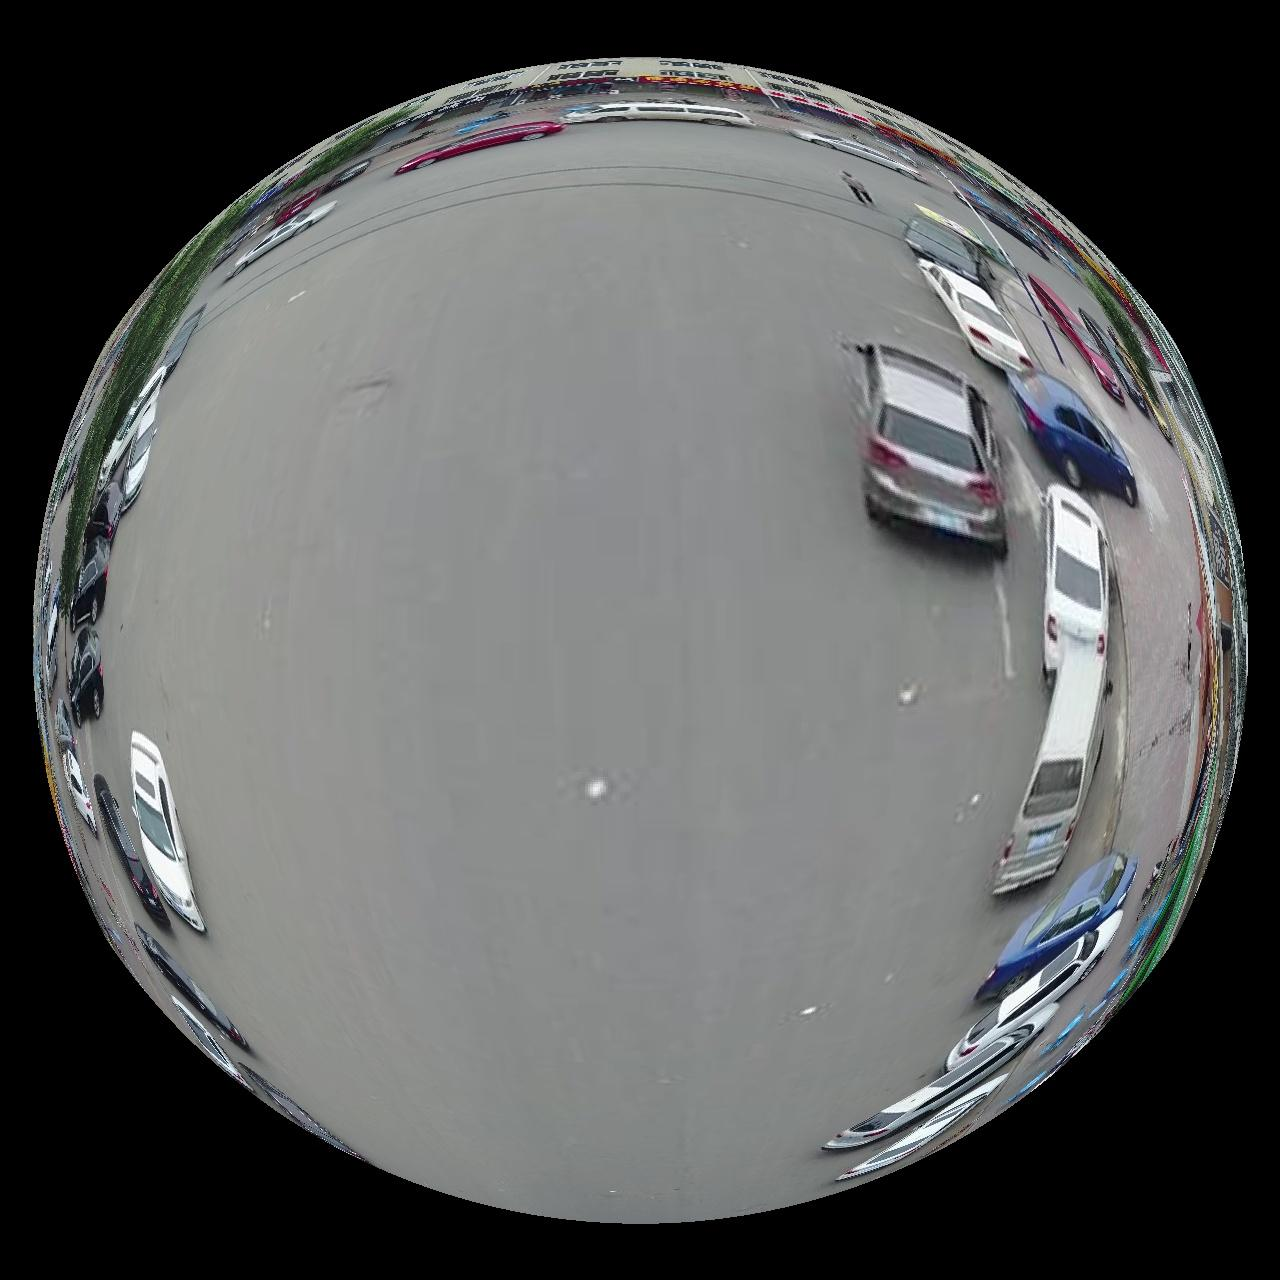cars: (824, 1004, 1061, 1152), (858, 345, 1009, 554), (994, 634, 1106, 894), (949, 911, 1125, 1070), (978, 855, 1138, 1000), (839, 1076, 1010, 1182), (1010, 369, 1141, 506), (129, 733, 203, 932), (136, 927, 248, 1052), (920, 256, 1035, 370), (1032, 274, 1127, 404), (239, 1068, 363, 1161), (92, 775, 167, 928), (1049, 486, 1108, 640), (906, 215, 981, 282), (69, 536, 109, 630), (67, 627, 102, 726), (61, 749, 96, 834)
